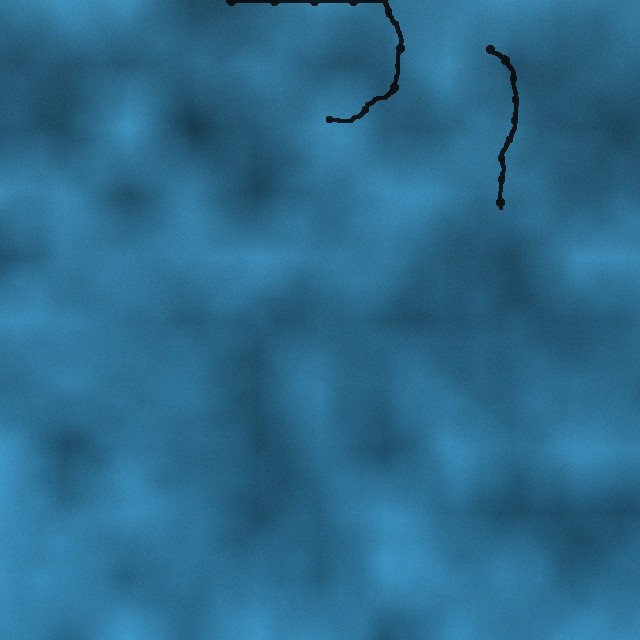crack: (223, 0, 406, 124), (486, 45, 520, 212)
